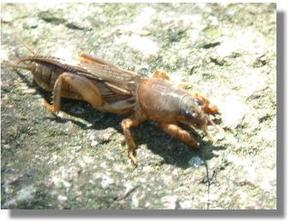pest: (18, 48, 218, 146)
